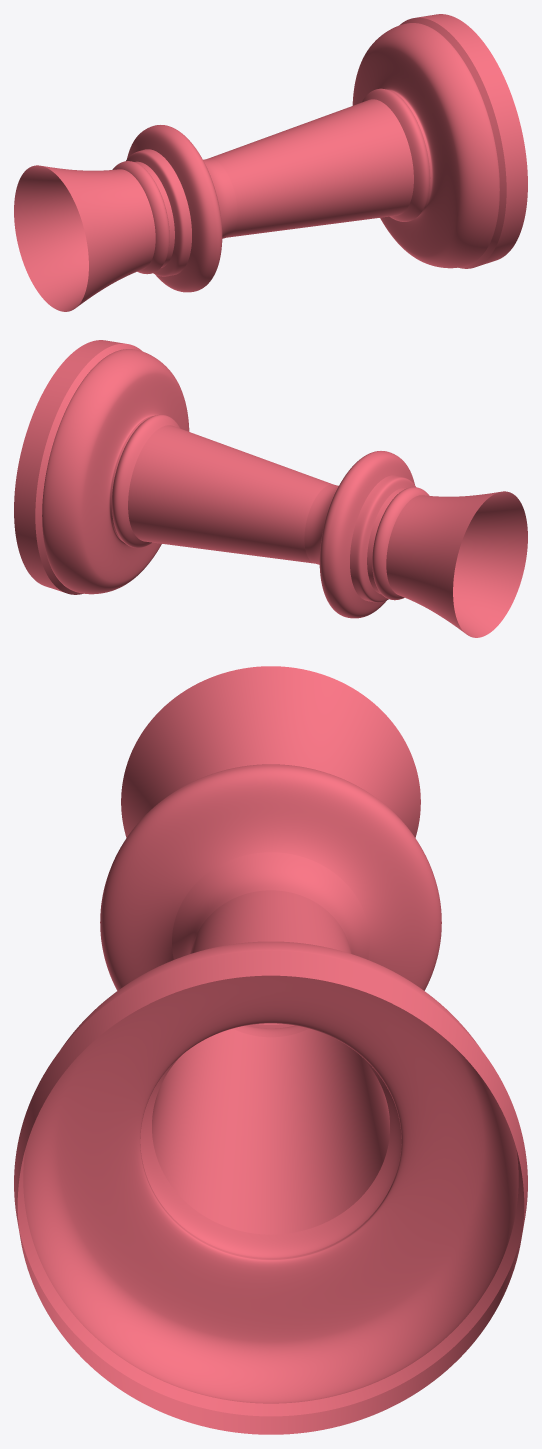
Rendered from revolution.glb.
3 renders of one model, top to bottom at view 1: azimuth 30°, elevation 25°; view 2: azimuth 150°, elevation 25°; view 3: azimuth 270°, elevation 25°, orthographic. The views are drawn at different scales.
Parts seen in each view (by area): view 1: SOLID; view 2: SOLID; view 3: SOLID.
Boxes of the visible parts, bbox=[...] form: SOLID: bbox=[14, 14, 527, 311]; SOLID: bbox=[14, 340, 527, 637]; SOLID: bbox=[14, 666, 527, 1434].
Bounding box in the file's own units: 0.1236 × 0.0666 × 0.0666.
